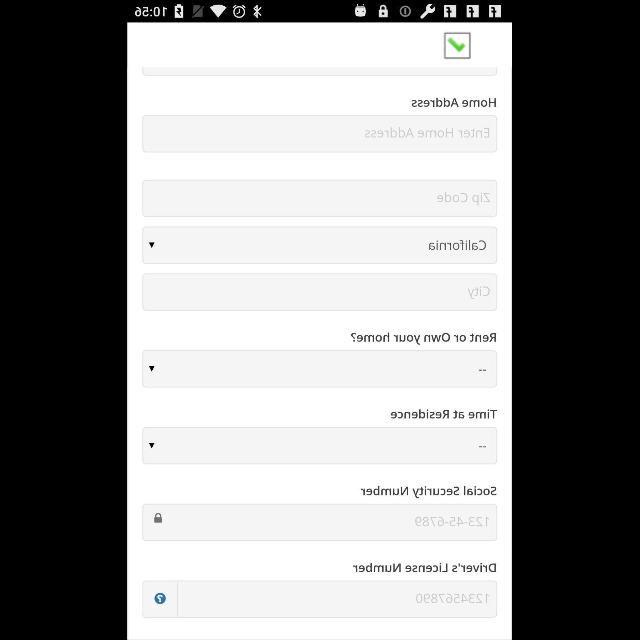icon: (155, 592, 167, 604), (155, 513, 163, 523), (150, 366, 156, 372), (149, 443, 155, 449)
input: (142, 115, 498, 153), (142, 180, 498, 218), (142, 503, 498, 541), (142, 580, 498, 618), (142, 274, 498, 310)
text: (352, 332, 496, 346), (353, 562, 497, 574), (362, 486, 498, 498), (366, 128, 490, 138), (392, 409, 498, 419), (412, 98, 496, 108), (416, 517, 490, 527), (416, 593, 489, 603), (438, 192, 490, 205), (468, 286, 490, 300)
textbutton: (142, 226, 498, 264), (142, 350, 498, 388), (142, 427, 498, 465)
uppertaskbar: (128, 1, 512, 23)
